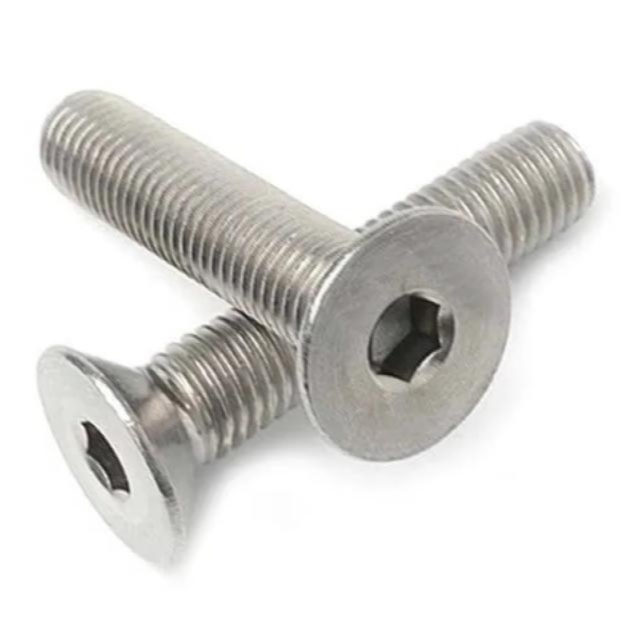allen: (296, 206, 513, 465), (35, 343, 190, 573)
